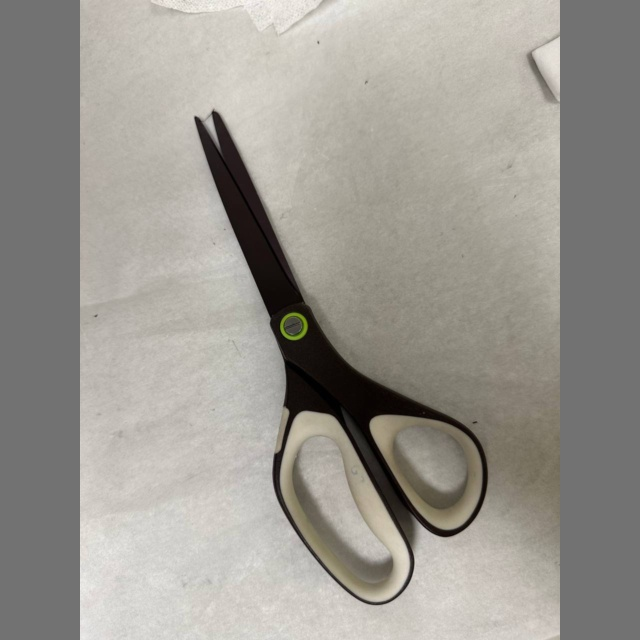scissor: (195, 111, 487, 604)
